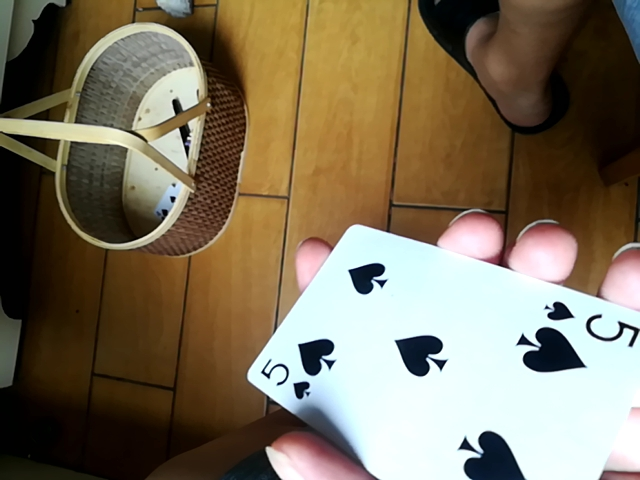ht 5: (240, 217, 640, 480)
